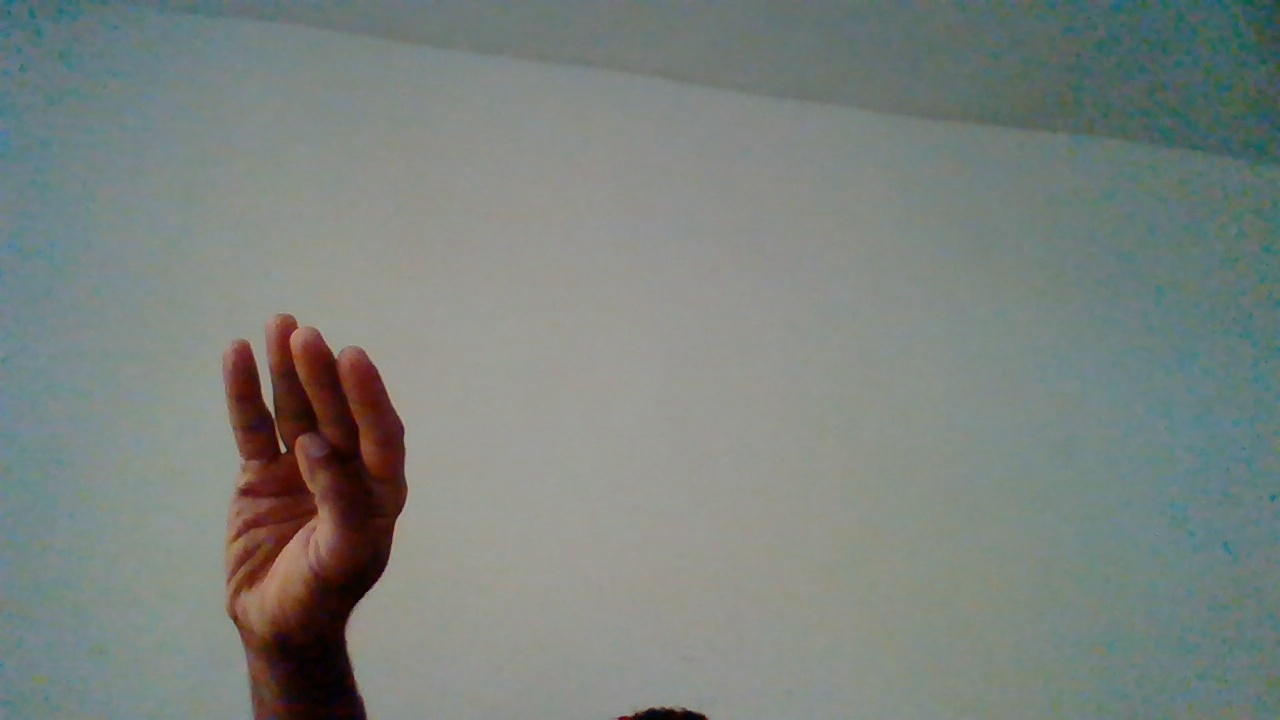me: (219, 311, 418, 719)
